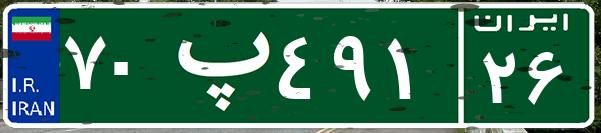0: (110, 28, 158, 105)
1: (385, 28, 445, 110)
2: (475, 38, 525, 113)
4: (273, 28, 330, 110)
6: (525, 38, 570, 115)
7: (57, 26, 110, 107)
9: (330, 28, 385, 110)
پ: (158, 15, 273, 115)
